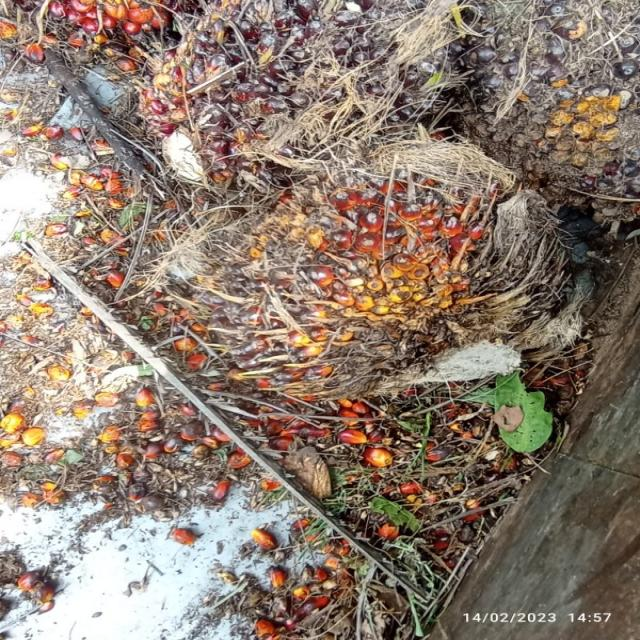fraksi 00: (154, 0, 444, 203)
fraksi 1: (143, 109, 590, 432)
